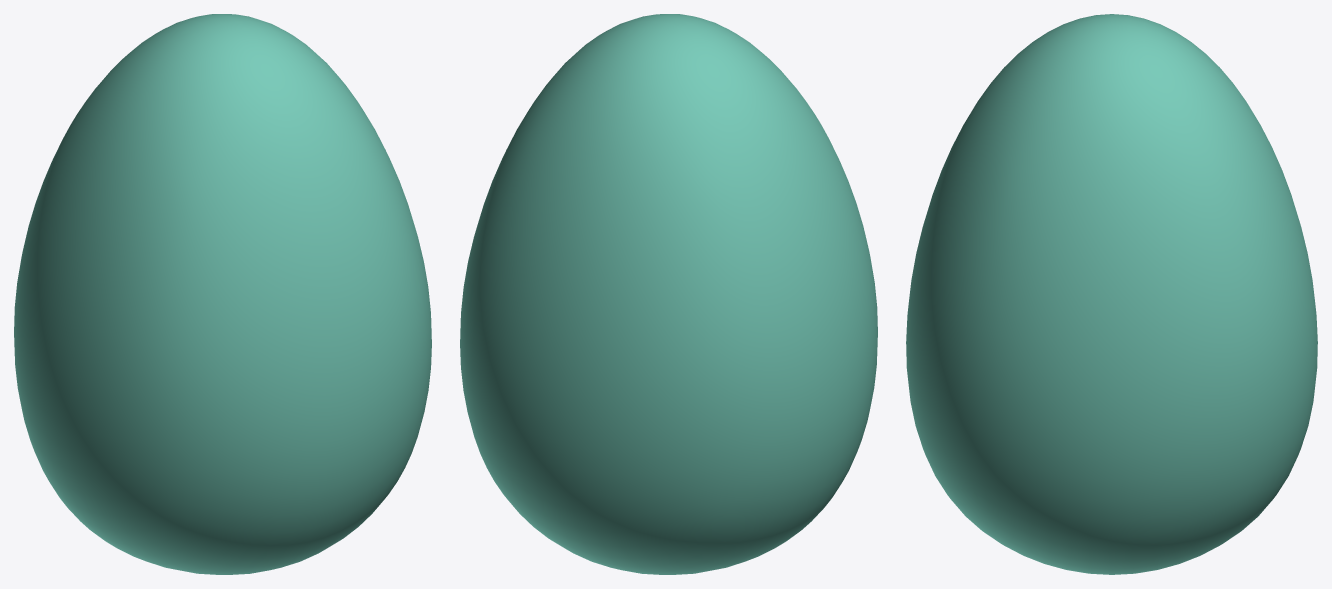
Rendered from Slime Egg .fbx.
3 views of the same model, side by side, from view 1: azimuth 30°, elevation 25°; view 2: azimuth 150°, elevation 25°; view 3: azimuth 270°, elevation 25° (orthographic).
Parts seen in each view (by area): view 1: Slime Egg; view 2: Slime Egg; view 3: Slime Egg.
Part boxes in pixels (box(x1,y1,x2,y2)): Slime Egg: box(14, 14, 431, 574); Slime Egg: box(460, 14, 877, 574); Slime Egg: box(906, 14, 1317, 574).
Bounding box in the file's own units: 256 × 362 × 256.
